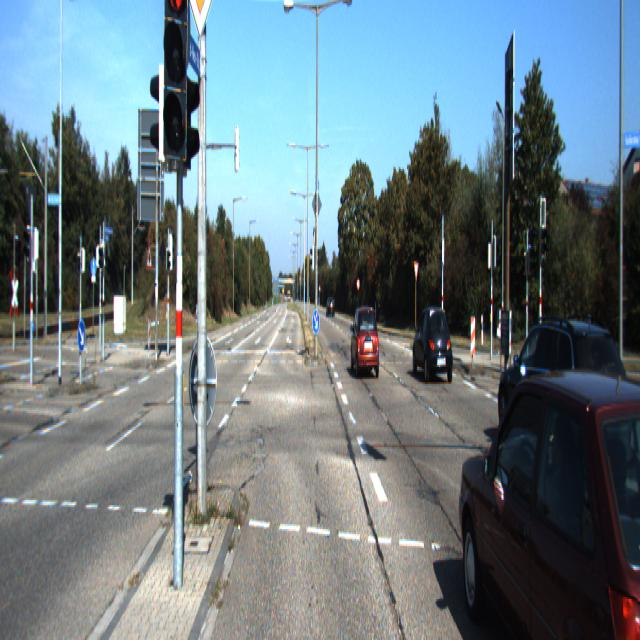Car: (458, 348, 640, 638), (498, 310, 634, 492), (412, 304, 453, 384), (351, 304, 380, 380)
